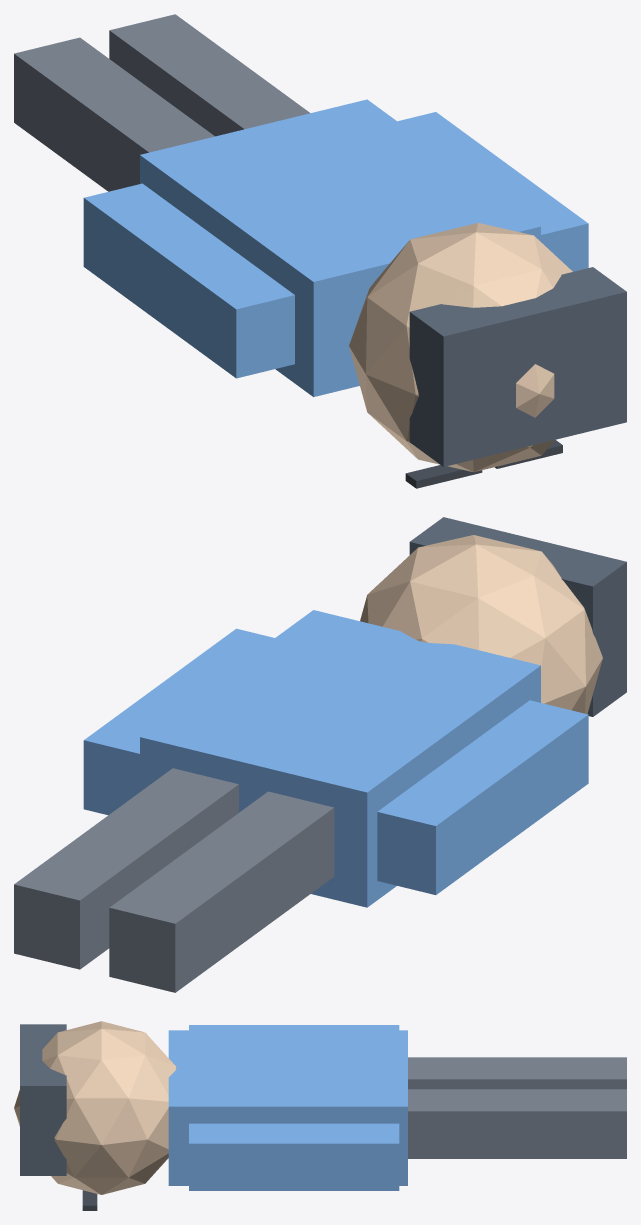
File: junior.glb
3 views of the same model, one above another, from view 1: azimuth 30°, elevation 25°; view 2: azimuth 150°, elevation 25°; view 3: azimuth 270°, elevation 25° (orthographic). The views are drawn at different scales.
Parts seen in each view (by area): view 1: torso_2, hair_6, arm_l_3, head_5, leg_l_0, leg_r_1, arm_r_4, glasses_l_7; view 2: torso_2, leg_l_0, arm_l_3, head_5, leg_r_1, arm_r_4, hair_6; view 3: torso_2, head_5, leg_r_1, arm_r_4, leg_l_0, hair_6, arm_l_3, glasses_r_8.
Boxes of the visible parts, left/top/right/bottom form: torso_2: left=140, top=99, right=540, bottom=396; hair_6: left=409, top=267, right=626, bottom=466; arm_l_3: left=83, top=183, right=294, bottom=378; head_5: left=349, top=223, right=572, bottom=472; leg_l_0: left=14, top=37, right=214, bottom=191; leg_r_1: left=109, top=14, right=310, bottom=136; arm_r_4: left=397, top=112, right=588, bottom=271; glasses_l_7: left=405, top=465, right=482, bottom=488; torso_2: left=140, top=610, right=540, bottom=907; leg_l_0: left=109, top=791, right=334, bottom=992; arm_l_3: left=377, top=700, right=588, bottom=894; head_5: left=360, top=535, right=602, bottom=714; leg_r_1: left=14, top=768, right=238, bottom=969; arm_r_4: left=83, top=628, right=274, bottom=815; hair_6: left=409, top=517, right=626, bottom=716; torso_2: left=168, top=1030, right=407, bottom=1185; head_5: left=14, top=1021, right=176, bottom=1194; leg_r_1: left=408, top=1089, right=626, bottom=1158; arm_r_4: left=189, top=1123, right=399, bottom=1190; leg_l_0: left=408, top=1057, right=626, bottom=1089; hair_6: left=20, top=1024, right=66, bottom=1175; arm_l_3: left=189, top=1025, right=399, bottom=1030; glasses_r_8: left=82, top=1190, right=97, bottom=1210.
Bounding box in the file's own units: 0.96 × 0.6 × 2.1.
